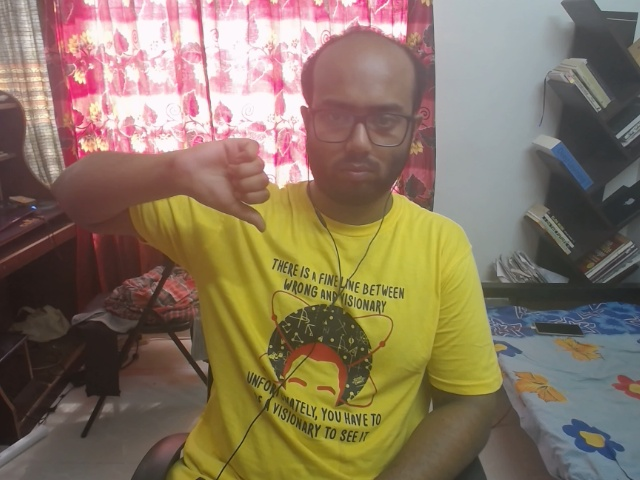nine: (159, 110, 309, 259)
